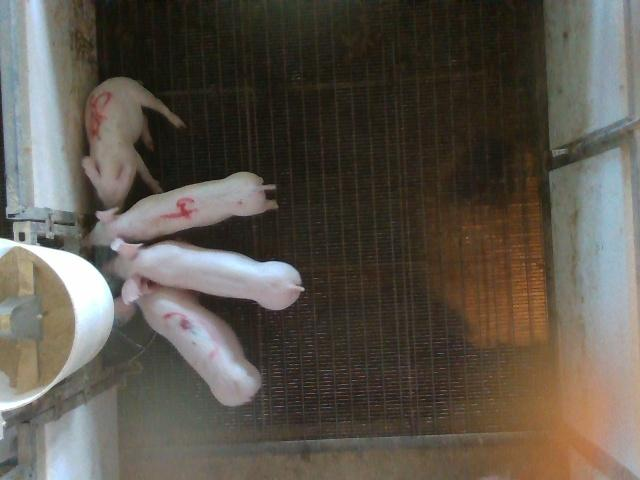pig-3: (138, 286, 261, 406)
pig-4: (89, 171, 277, 245)
pig-5: (82, 78, 184, 208)
